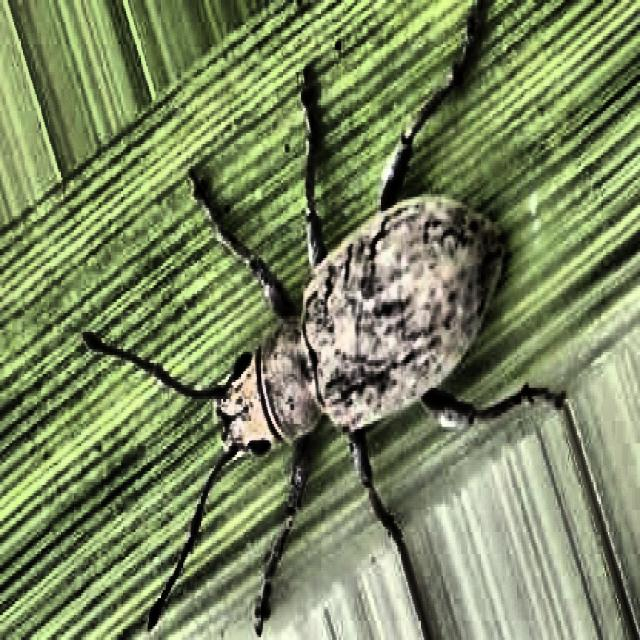Stink bug: (102, 17, 606, 629)
